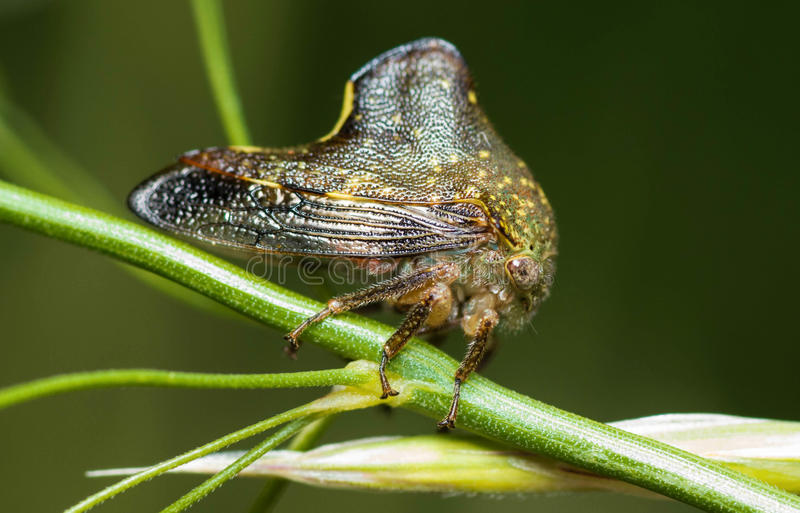Brown_hopper: (130, 51, 576, 429)
